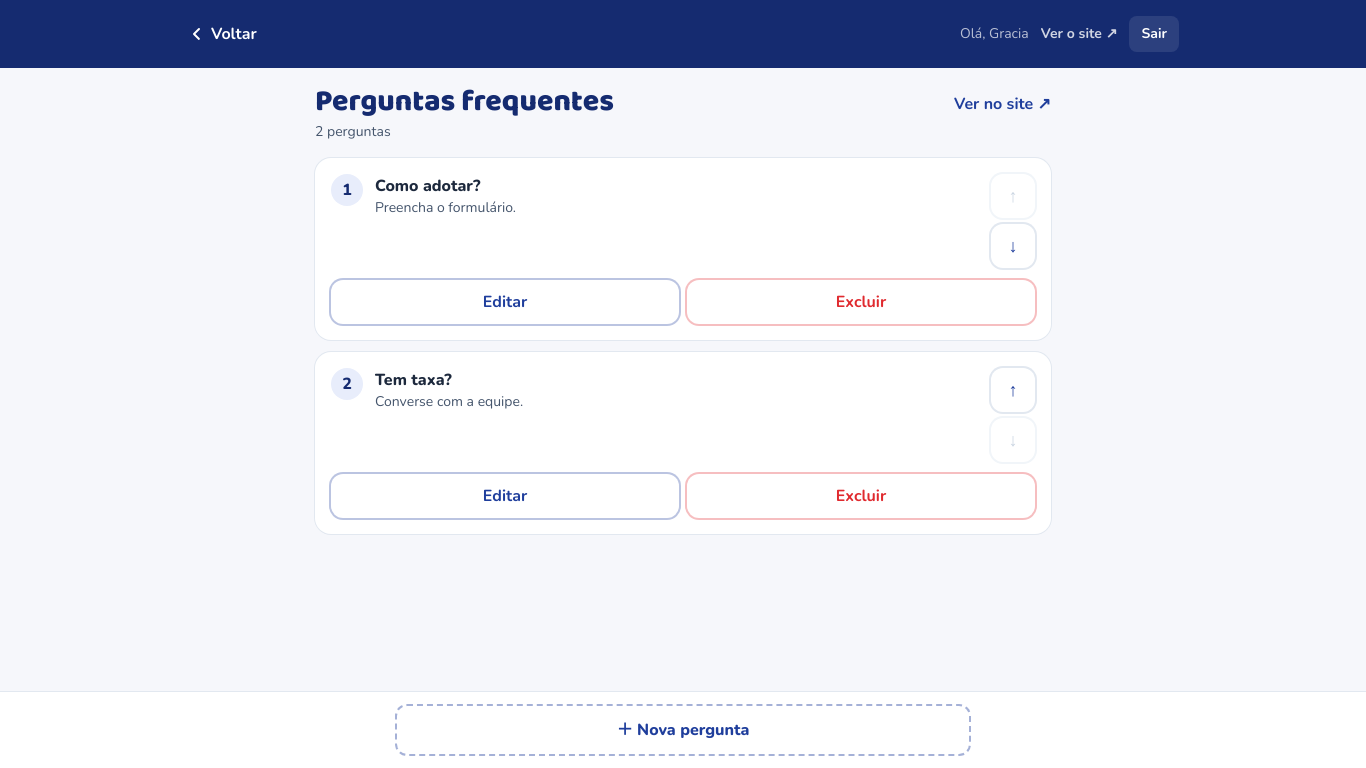
Test: T16 · Perguntas frequentes (ListaEditavel) › excluir pede confirmação e avisa com o link da página (RN36, RN37)
Click the button named "Excluir \"Tem taxa?\"".
click(861, 496)  # box [687, 474, 1035, 518]
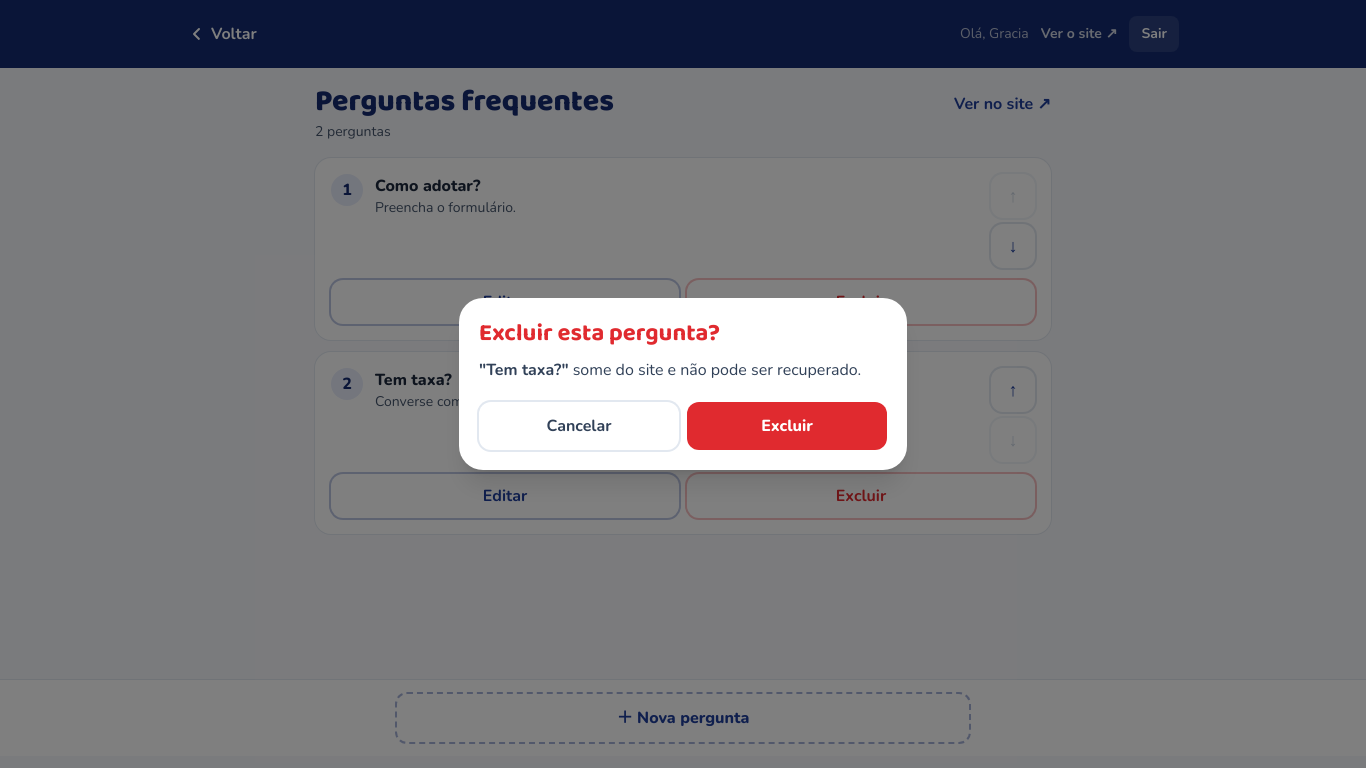
Check: the text "\"Tem taxa?\" some do site e não pode ser recuperado." is shown, box [479, 358, 887, 382]
Click the button "Excluir".
click(787, 426)  # box [687, 402, 887, 450]
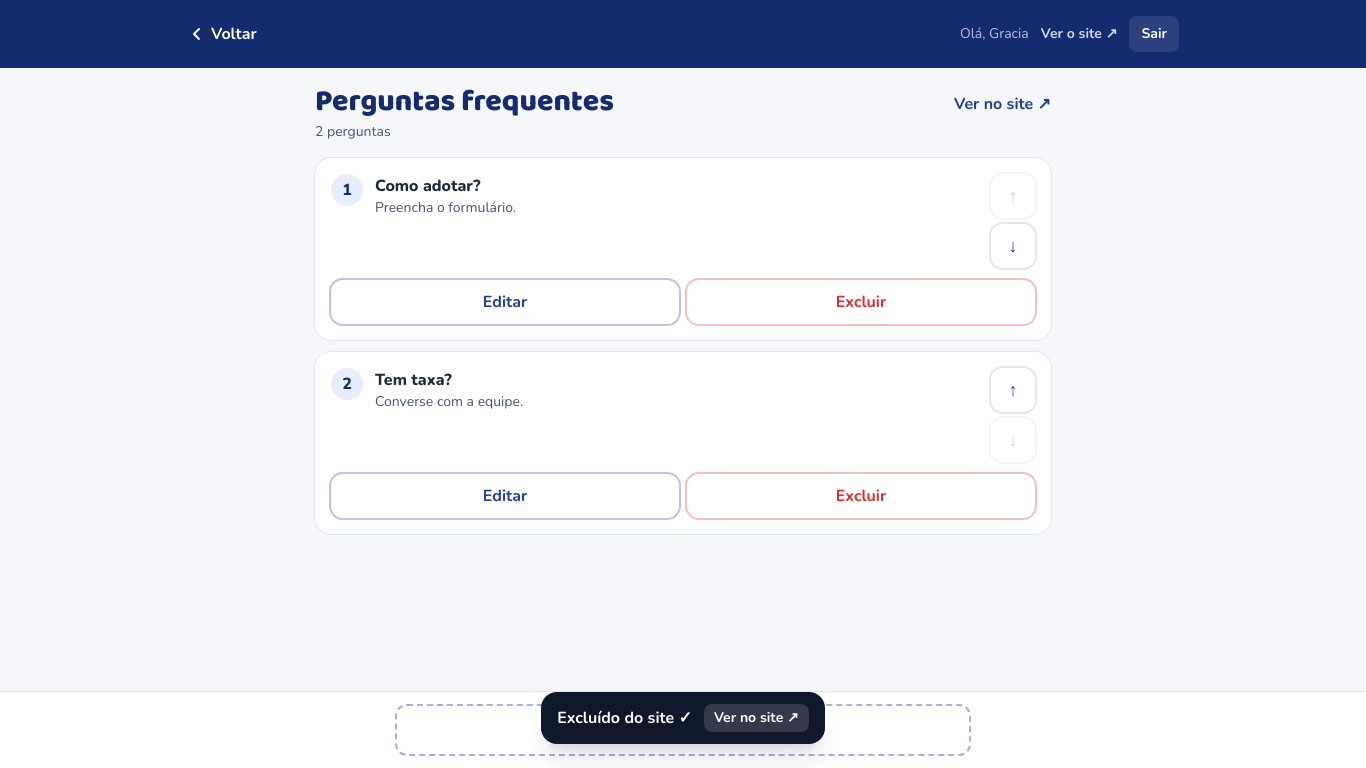
Check: the text "Excluído do site ✓" is shown, box [557, 707, 692, 729]
